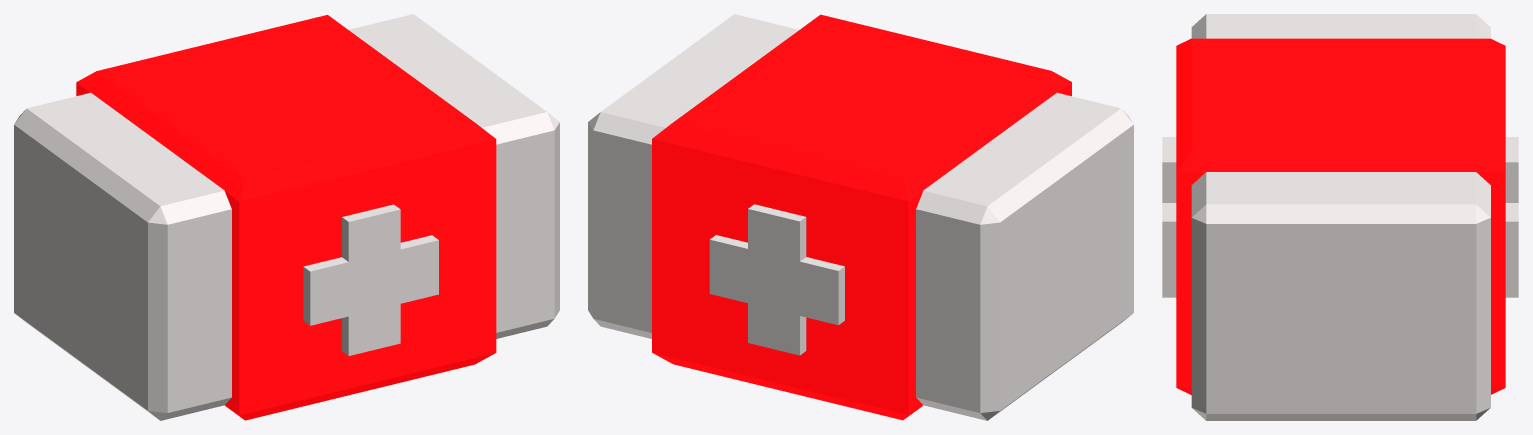
File: medkit.fbx
The picture shows the model from 3 angles, left to right: view 1: azimuth 30°, elevation 25°; view 2: azimuth 150°, elevation 25°; view 3: azimuth 270°, elevation 25°; orthographic projection.
Parts seen in each view (by area): view 1: Cube.001, Cube, Cube.002; view 2: Cube.001, Cube, Cube.003; view 3: Cube, Cube.001, Cube.002, Cube.003.
Boxes of the visible parts, <box> form: Cube.001: <box>76,15,496,420</box>; Cube: <box>14,14,559,420</box>; Cube.002: <box>303,204,438,355</box>; Cube.001: <box>652,14,1071,420</box>; Cube: <box>588,14,1133,420</box>; Cube.003: <box>709,204,844,355</box>; Cube: <box>1191,14,1490,420</box>; Cube.001: <box>1176,38,1505,394</box>; Cube.002: <box>1162,137,1176,297</box>; Cube.003: <box>1505,137,1518,297</box>.
Size of the model in its own units: 321 by 179 by 238.
